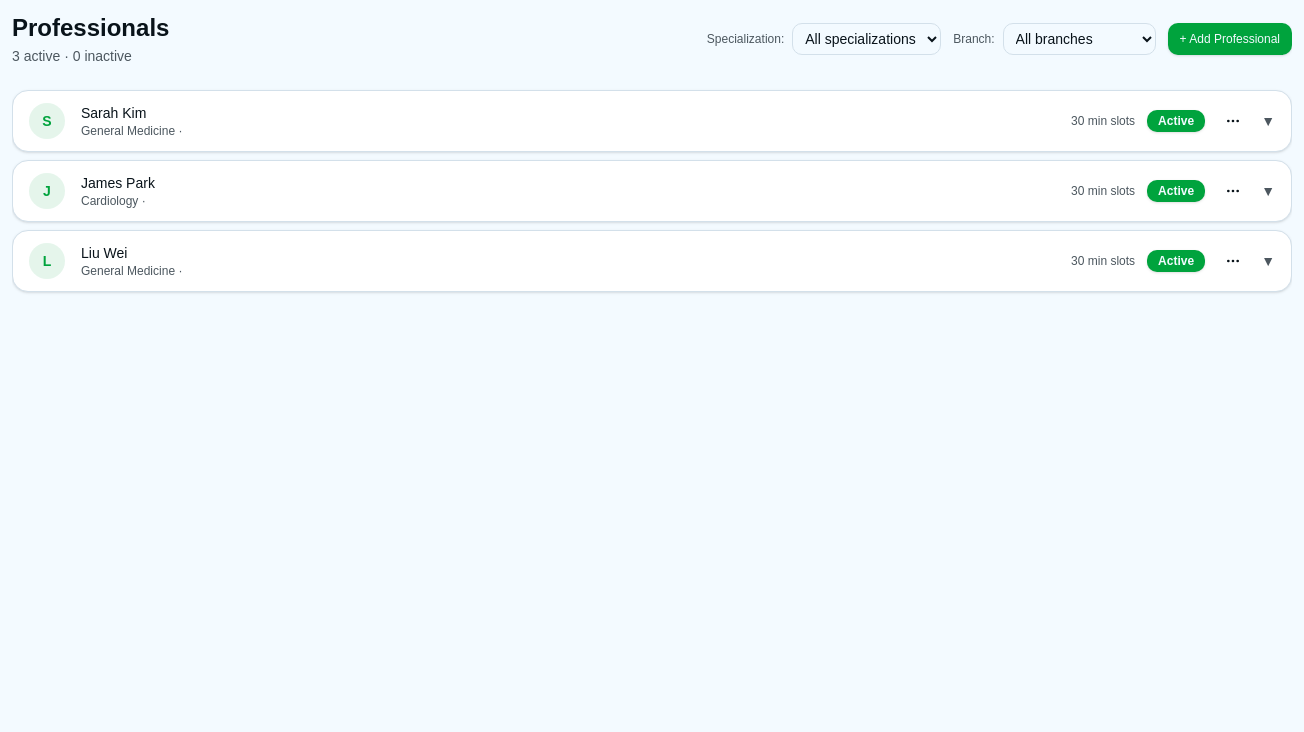
Test case: ProfessionalsPage (CC-85) › Switches to schedule tab inside expanded row
Expected: the text "Sarah Kim" is shown, [81,105,146,121]
Click the button "Sarah Kim".
click(47, 121)  # box [13,91,1291,151]
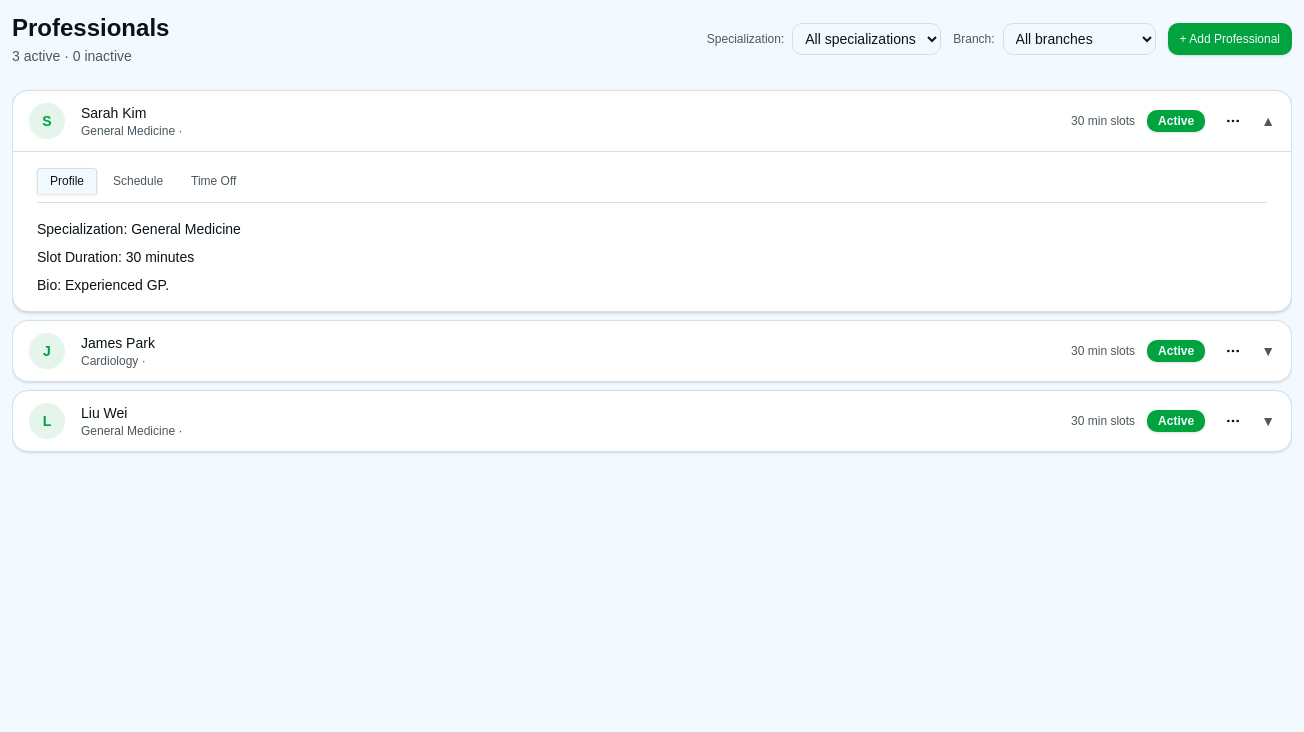
Click the button "Schedule".
click(138, 181)  # box [101,168,175,194]
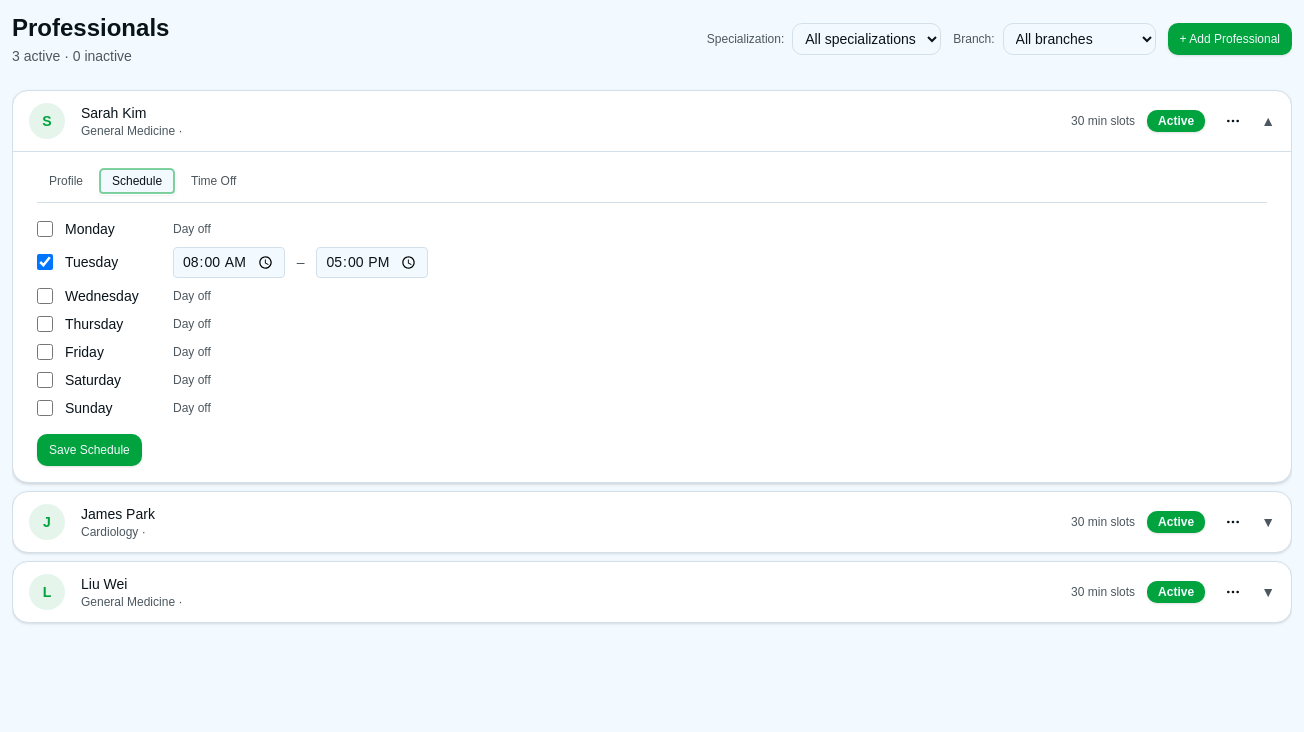
Expected: the text "Monday" is shown, [65,221,115,237]
Expected: the button "Save Schedule" is shown, [37,434,142,466]
